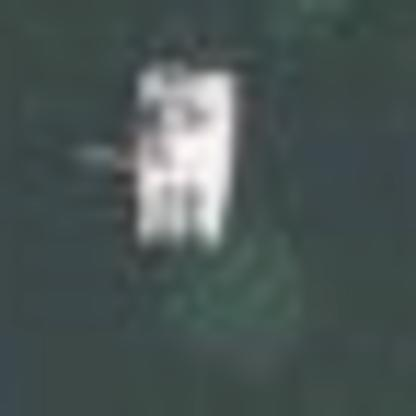ship: (74, 55, 285, 257)
